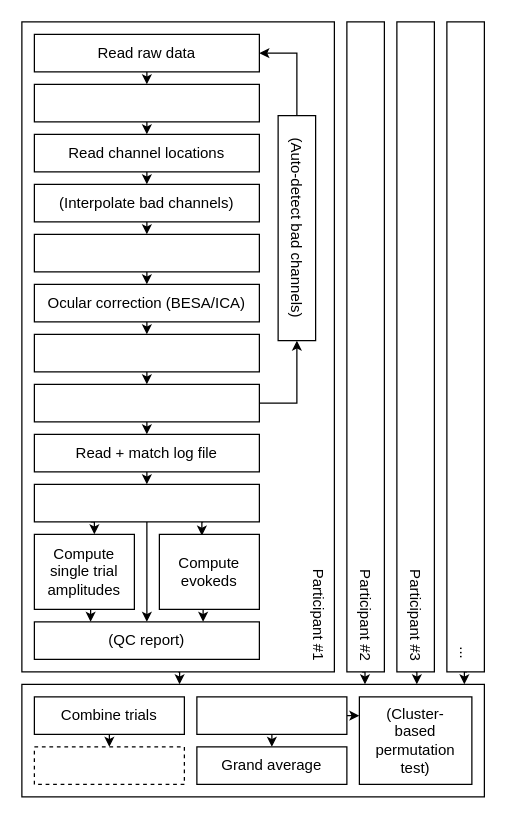
Some shapes in this 506 by 819 pixel diagram are drawn without their labels. The centre of each missing label's shape, as x and y in pixels:
"(Downsample)" belongs at point 146,102.
"Combine evokeds" belongs at point 271,715.
"Frequency filter" belongs at point 146,352.
"Linear mixed model" belongs at point 108,765.
"Re-reference" belongs at point 146,252.
"Reject bad epochs" belongs at point 146,502.
"Segment to epochs" belongs at point 146,402.
